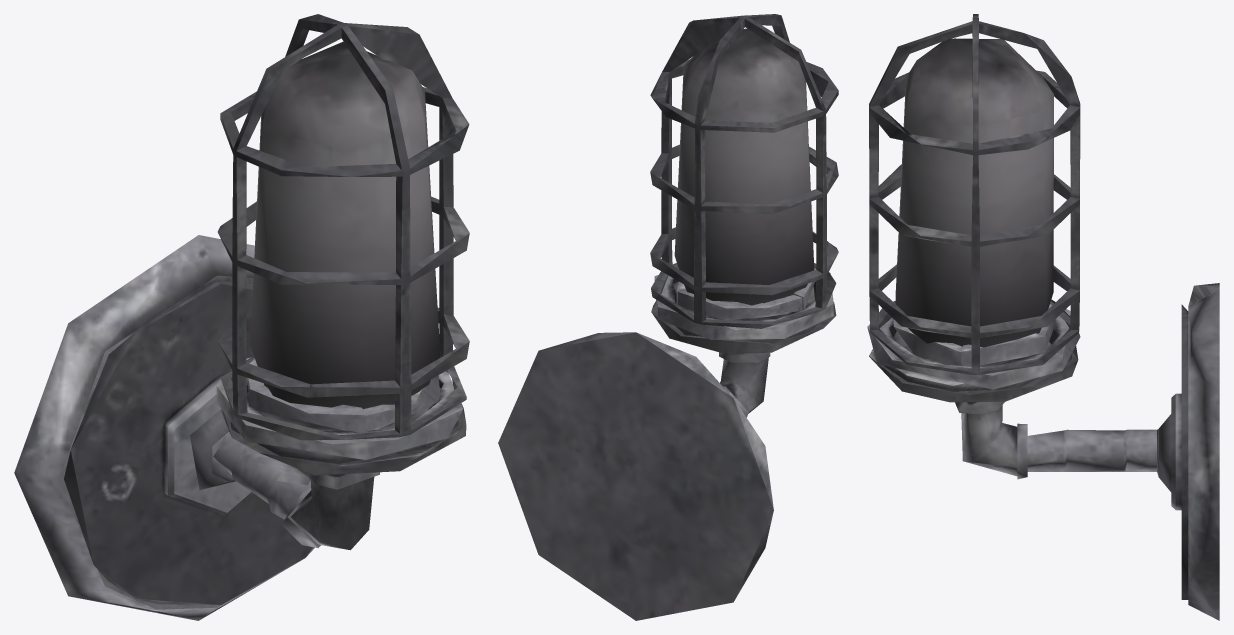
File: industrial_caged_sconce.glb
3 renders of one model, left to right at view 1: azimuth 30°, elevation 25°; view 2: azimuth 150°, elevation 25°; view 3: azimuth 270°, elevation 25°, orthographic. The views are drawn at different scales.
Visible parts, largest first — view 1: industrial_caged_sconce_a; view 2: industrial_caged_sconce_a; view 3: industrial_caged_sconce_a.
Part boxes in pixels (x1=…): industrial_caged_sconce_a: x1=14, y1=14, x2=469, y2=620; industrial_caged_sconce_a: x1=498, y1=14, x2=838, y2=620; industrial_caged_sconce_a: x1=867, y1=14, x2=1219, y2=620.
Bounding box in the file's own units: 0.2102 × 0.3819 × 0.2059.
Materials: 1 (1 with a texture image).
